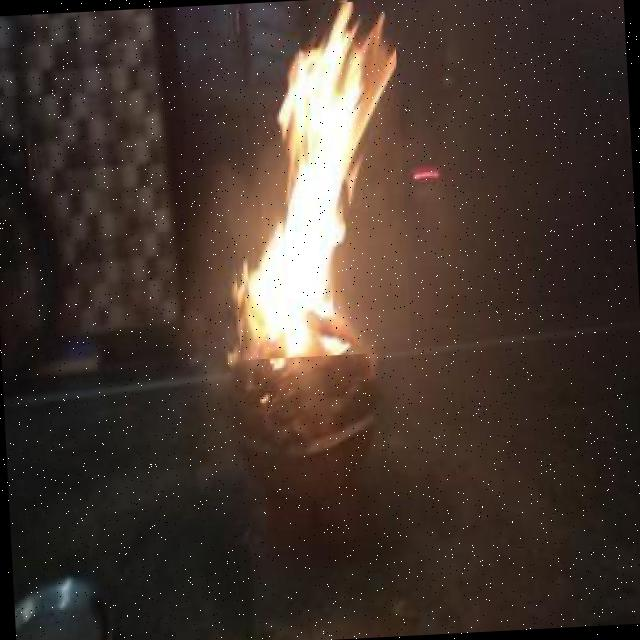fire: (222, 0, 412, 360)
